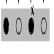correct: (3, 16, 10, 39)
no answer: (15, 15, 23, 38)
not correct: (28, 4, 35, 38)
